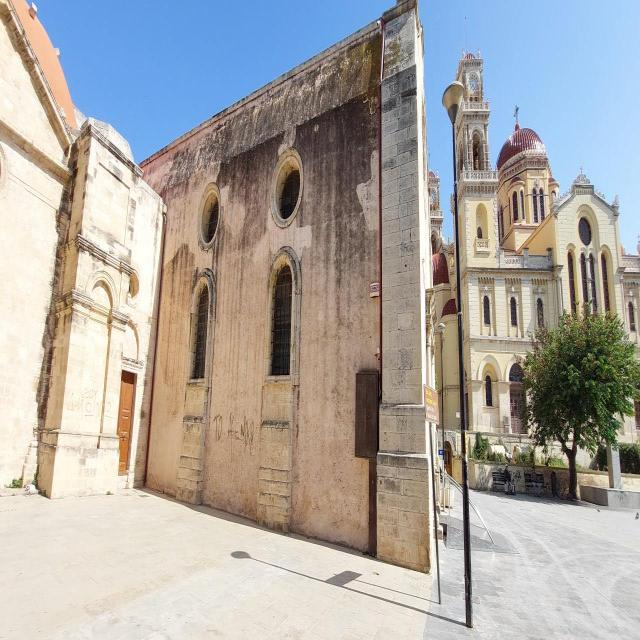Agia Aikaterini: (1, 1, 438, 582)
